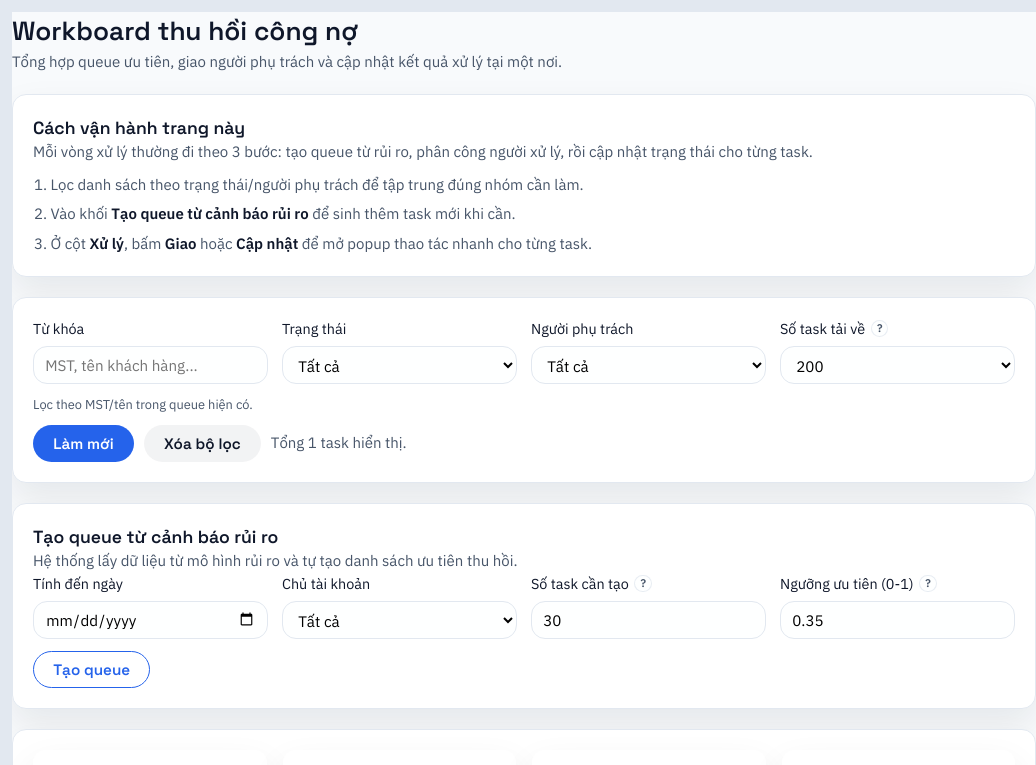
Test case: CollectionsPage › generates queue from risk signals for manager roles
The image size is (1036, 765).
Click the button "Tạo queue" at [92, 669], box [33,651,150,688]
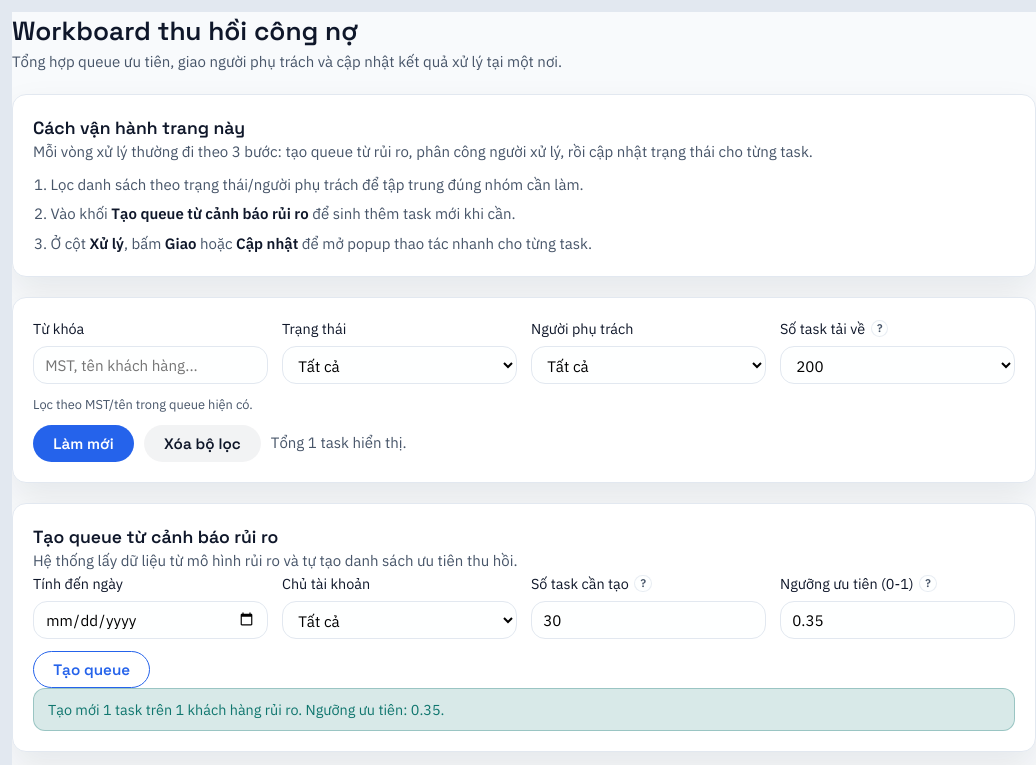
Expected: the text "Tạo mới 1 task" is shown, [48,700,444,719]
